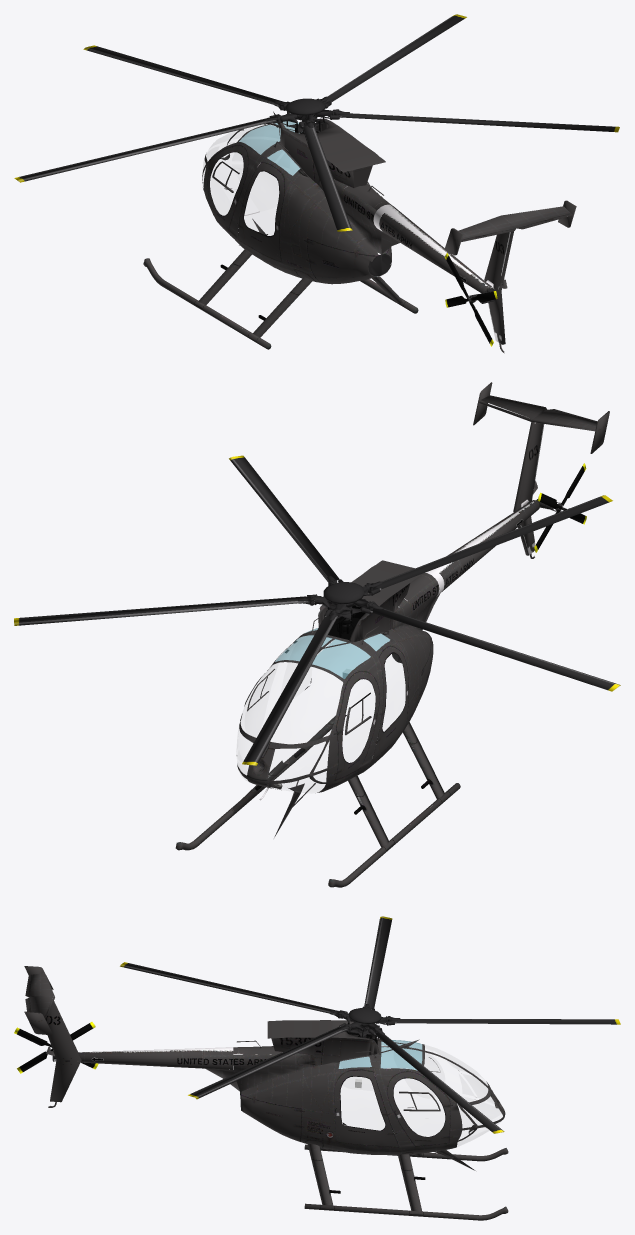
3 views of the same model, one above another, from view 1: azimuth 30°, elevation 25°; view 2: azimuth 150°, elevation 25°; view 3: azimuth 270°, elevation 25° (orthographic). The views are drawn at different scales.
Visible parts, largest first — view 1: ext_fuselage1, rotor_main, ext_tail, ext_fuselage2, glass, glasss_grn, rotor_tail; view 2: rotor_main, ext_fuselage1, ext_fuselage2, ext_tail, glasss_grn, glass, rotor_tail; view 3: ext_fuselage1, rotor_main, ext_tail, ext_fuselage2, glass, glasss_grn, rotor_tail.
Boxes of the visible parts, box(x1,y1,x2,y2) form: ext_fuselage1: box(202, 111, 391, 278); rotor_main: box(14, 14, 619, 231); ext_tail: box(344, 183, 576, 353); ext_fuselage2: box(143, 118, 418, 349); glass: box(203, 125, 278, 214); glasss_grn: box(239, 121, 299, 175); rotor_tail: box(444, 253, 497, 346); rotor_main: box(14, 455, 620, 765); ext_fuselage1: box(236, 579, 439, 837); ext_fuselage2: box(175, 560, 460, 887); ext_tail: box(404, 382, 609, 621); glasss_grn: box(275, 628, 389, 678); glass: box(237, 663, 311, 792); rotor_tail: box(534, 463, 586, 552); ext_fuselage1: box(233, 1027, 495, 1170); rotor_main: box(120, 916, 620, 1133); ext_tail: box(24, 966, 281, 1107); ext_fuselage2: box(240, 1020, 508, 1220); glass: box(343, 1045, 500, 1146); glasss_grn: box(338, 1040, 422, 1070); rotor_tail: box(14, 1022, 98, 1073).
Bounding box in the file's own units: 7.48 × 3.44 × 9.23.
Materials: 5 (5 with a texture image).
